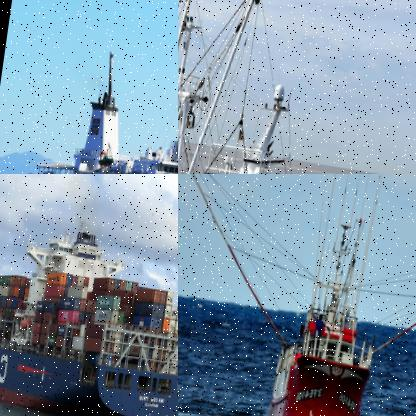Fishing Boat: (178, 174, 415, 415), (178, 0, 354, 173)
Merchant Ship: (0, 194, 177, 415), (1, 39, 177, 173)
